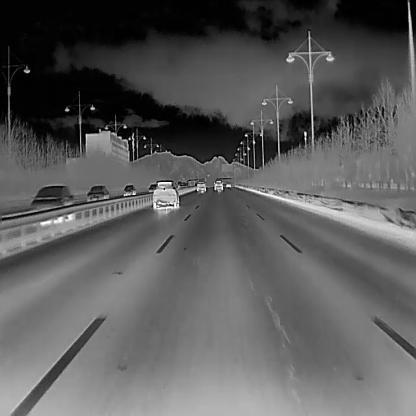car: (30, 184, 73, 208), (152, 179, 180, 210), (85, 182, 109, 202), (121, 182, 136, 196), (195, 179, 206, 193), (213, 179, 223, 193), (147, 182, 158, 192), (178, 179, 187, 188), (187, 179, 196, 186), (225, 180, 232, 188)
